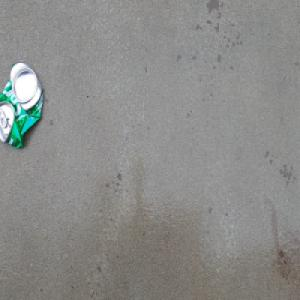SodaCan: (0, 60, 44, 150)
